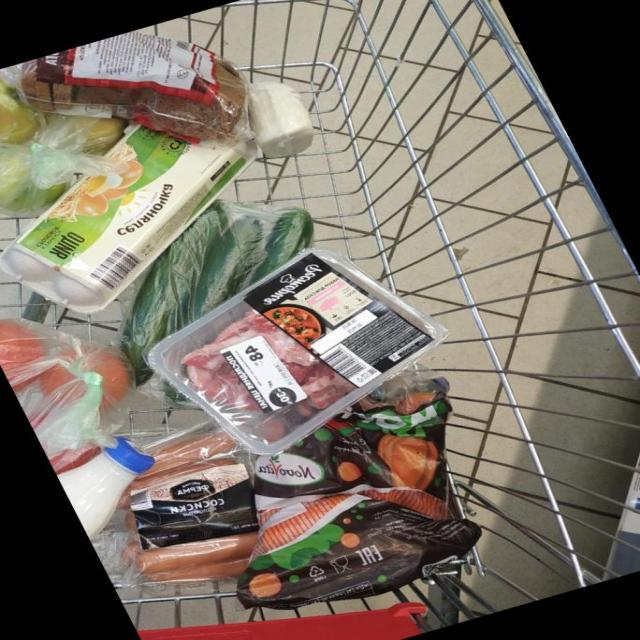Apple: (0, 154, 66, 217), (0, 78, 43, 144), (71, 116, 125, 154)
Bread: (0, 30, 248, 142)
Cheese: (249, 81, 315, 157)
Cucumber: (120, 202, 229, 384), (187, 217, 263, 323), (249, 207, 314, 283)
Eggs: (0, 124, 248, 312)
Meat: (149, 248, 446, 455)
Milk: (57, 438, 154, 541)
Sausages: (120, 424, 258, 583)
Tomatoes: (0, 318, 46, 392), (83, 346, 134, 411), (48, 442, 102, 476), (38, 364, 74, 394)
